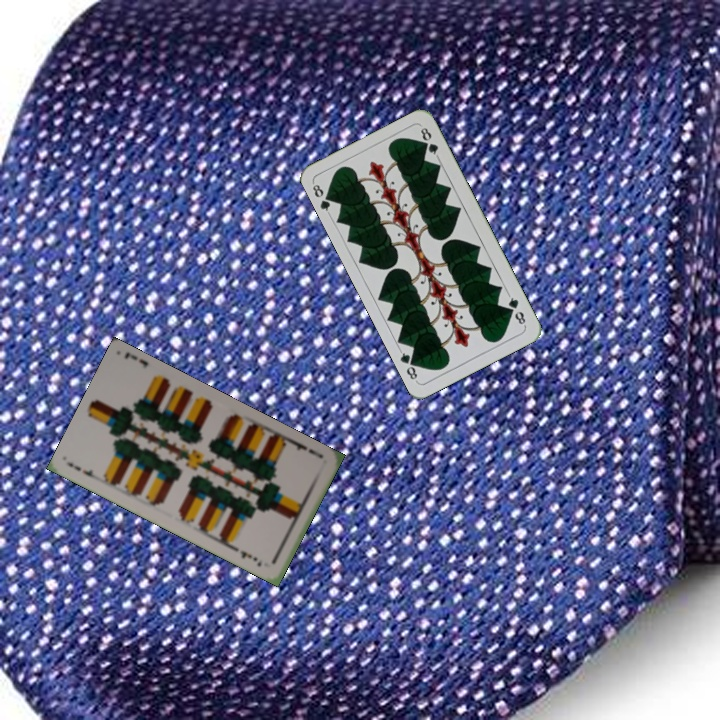E7: (65, 459, 102, 484), (288, 437, 326, 461)
G8: (308, 179, 336, 217), (504, 291, 528, 329)
